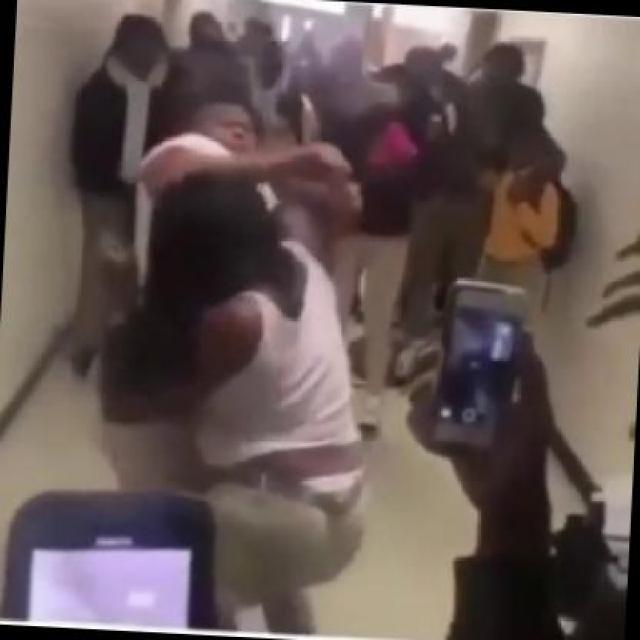fight: (89, 94, 386, 540)
